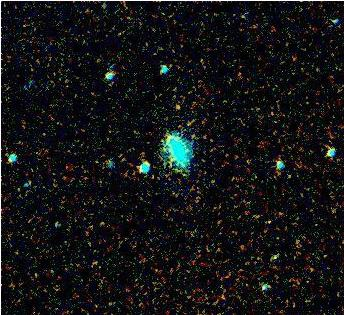star: (163, 90, 193, 120)
